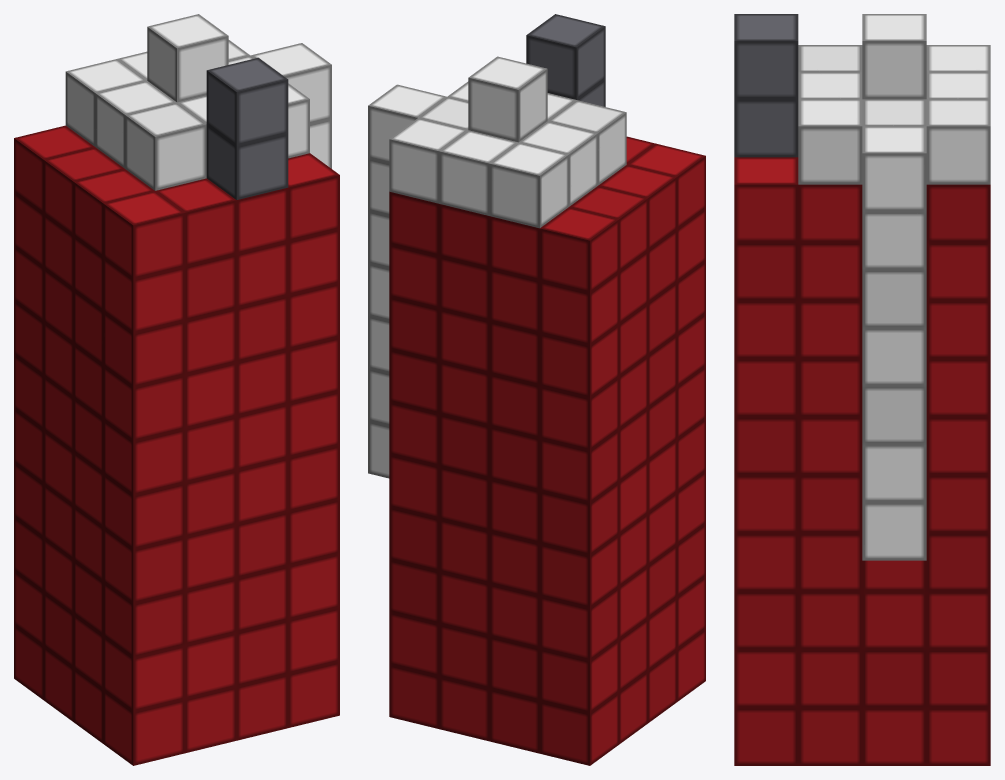
Rendered from fire_extinguisher.glb.
3 views of the same model, side by side, from view 1: azimuth 30°, elevation 25°; view 2: azimuth 150°, elevation 25°; view 3: azimuth 270°, elevation 25° (orthographic). The views are drawn at different scales.
Visible parts, largest first — view 1: fire_extinguisher; view 2: fire_extinguisher; view 3: fire_extinguisher.
Boxes of the visible parts, x1,y1,x2,y2 form: fire_extinguisher: (14, 14, 339, 765); fire_extinguisher: (368, 14, 705, 765); fire_extinguisher: (734, 14, 990, 765).
Bounding box in the file's own units: 0.25 × 0.6 × 0.2.
Materials: 3 (3 with a texture image).
